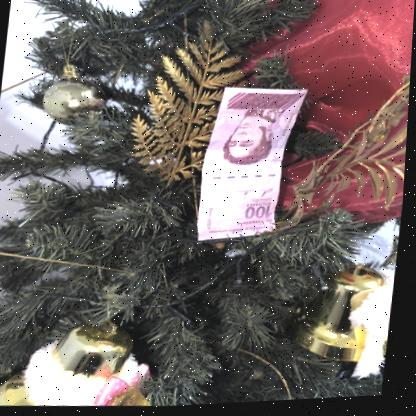one_hundred-front-vef: (196, 85, 309, 248)
